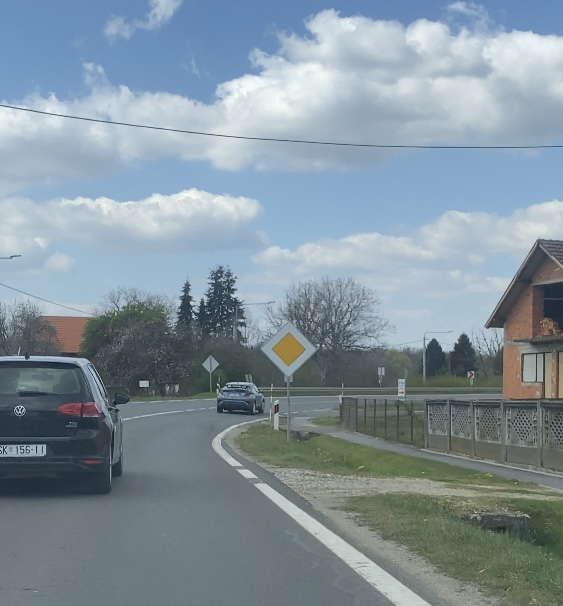Cesta s prednošću prolaska: (260, 321, 317, 377)
